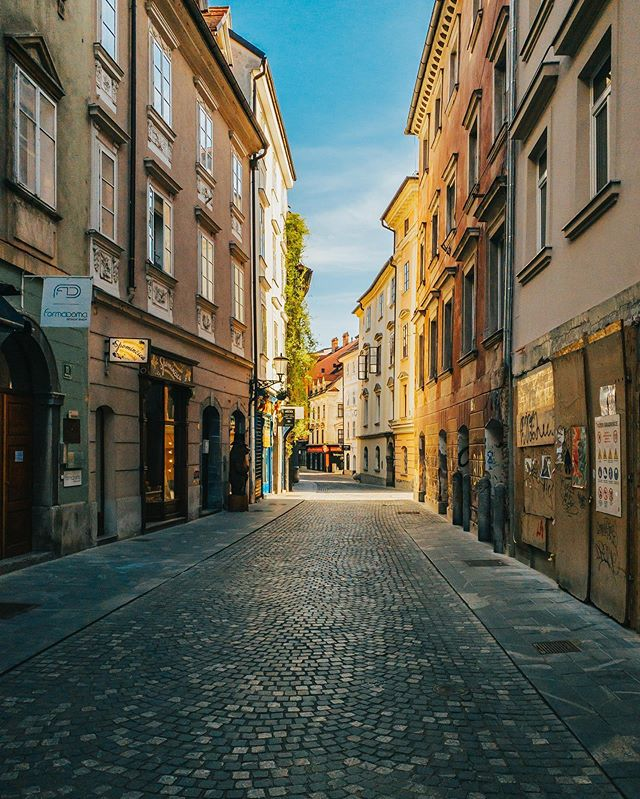building: (1, 1, 254, 588), (511, 1, 640, 583), (411, 1, 505, 576), (238, 26, 306, 486), (350, 178, 422, 482)
sky: (267, 1, 412, 285)
street: (1, 487, 616, 794)
